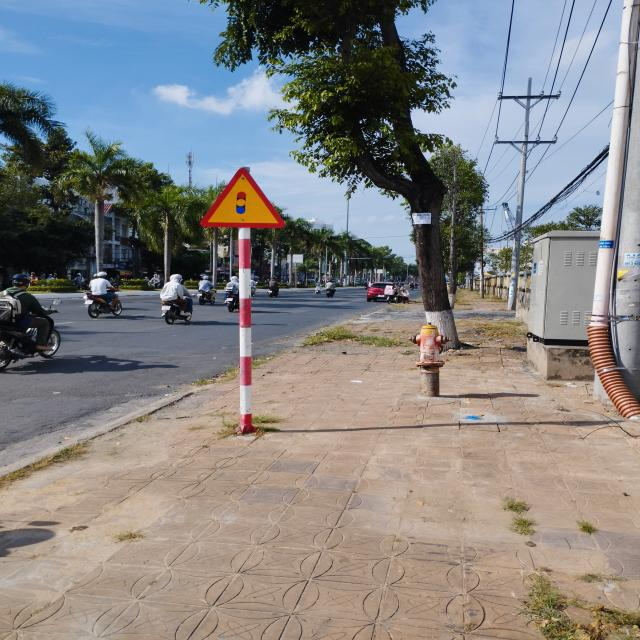Duong_Co_Go_Giam_Toc: (200, 168, 284, 228)
